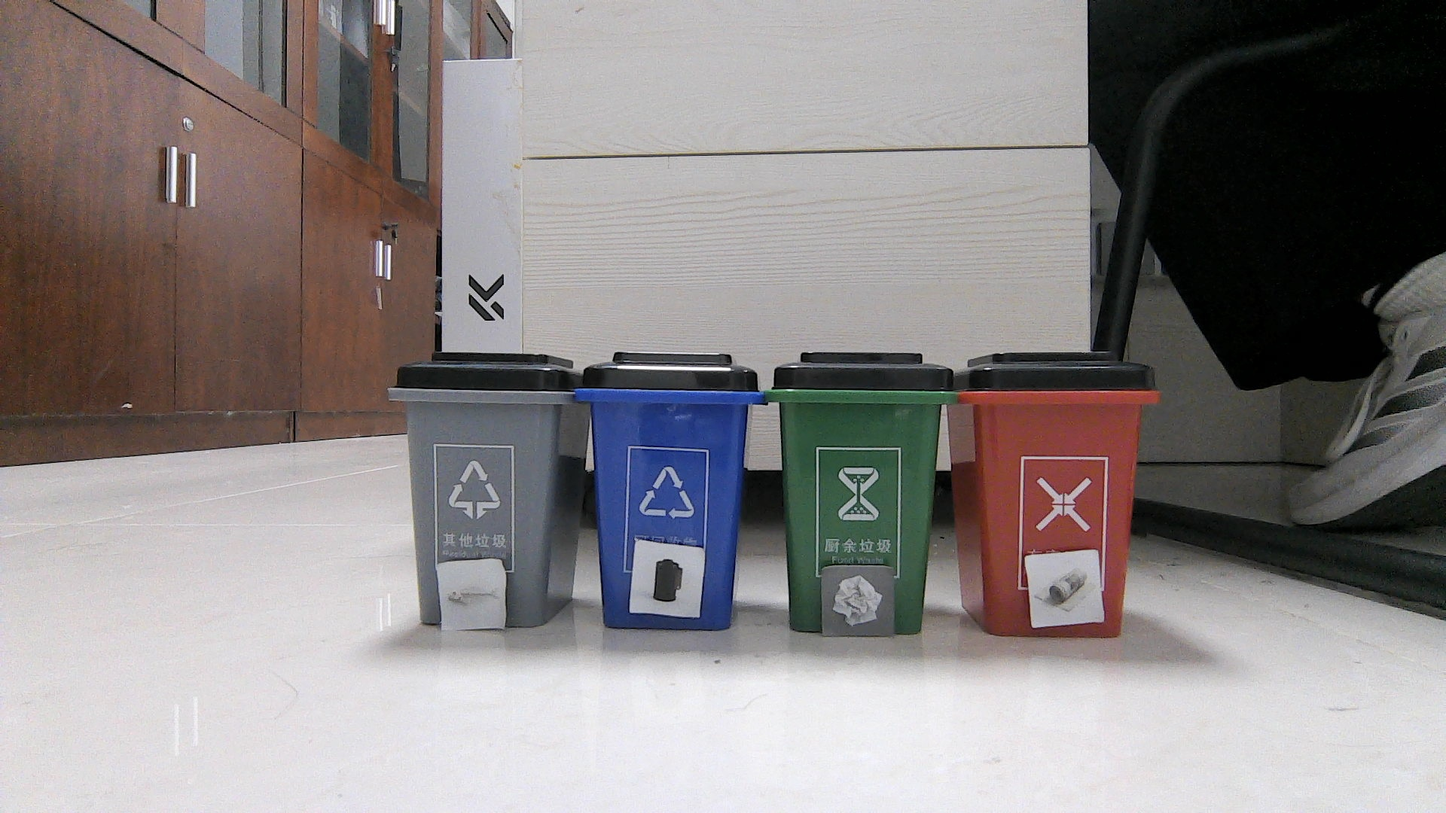food_trash: (441, 563, 503, 628)
hazardous_trash: (639, 547, 696, 611)
other_trash: (824, 568, 891, 632)
recyclable_trash: (1030, 553, 1099, 620)
